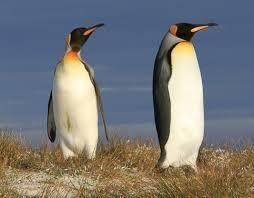Penguin: (153, 23, 216, 168), (47, 23, 108, 158)
